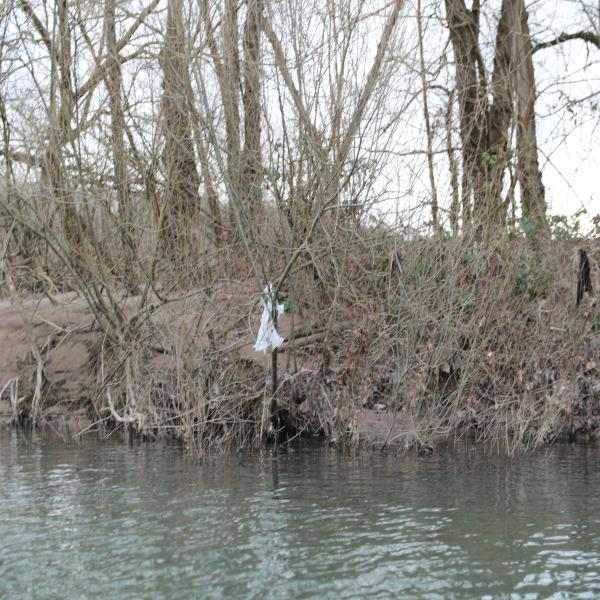fragments: (253, 281, 284, 355), (578, 247, 594, 304)
